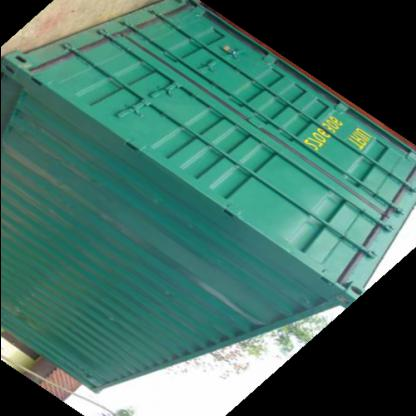Damage: (3, 80, 106, 213), (178, 276, 266, 327), (0, 270, 58, 334)
